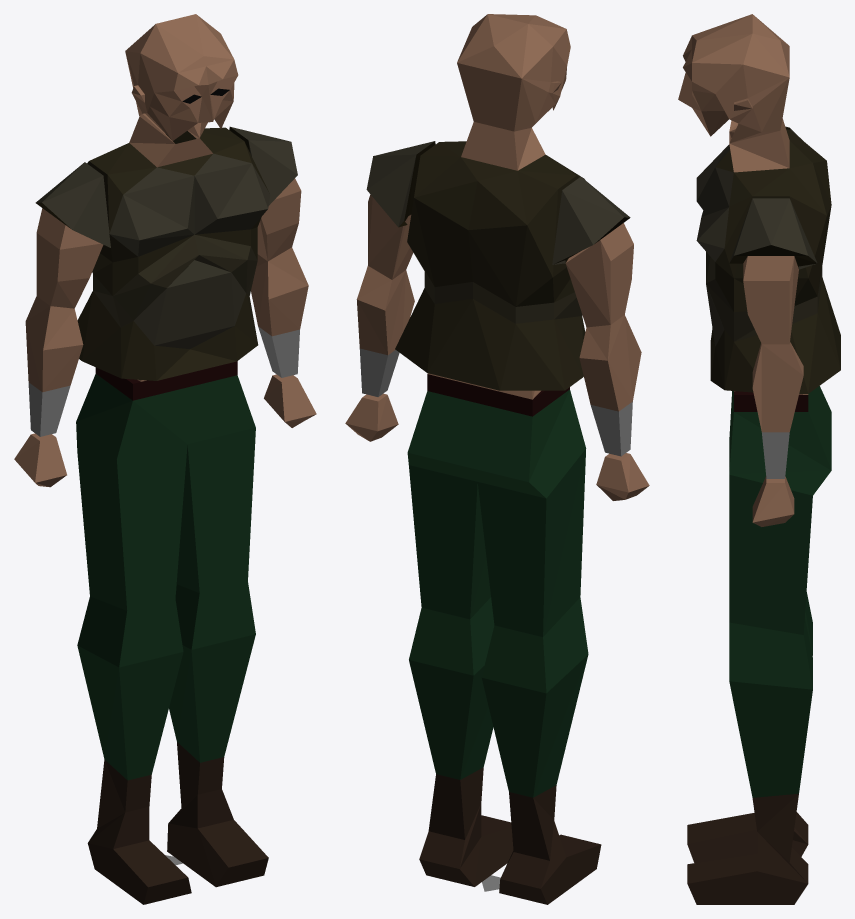
3 renders of one model, left to right at view 1: azimuth 30°, elevation 25°; view 2: azimuth 150°, elevation 25°; view 3: azimuth 270°, elevation 25°, orthographic.
Parts seen in each view (by area): view 1: runescapemodel; view 2: runescapemodel; view 3: runescapemodel.
Boxes of the visible parts, x1,y1,x2,y2 form: runescapemodel: (14, 14, 316, 904); runescapemodel: (345, 14, 649, 904); runescapemodel: (678, 14, 840, 904).
Size of the model in its own units: 70 by 202 by 35.
